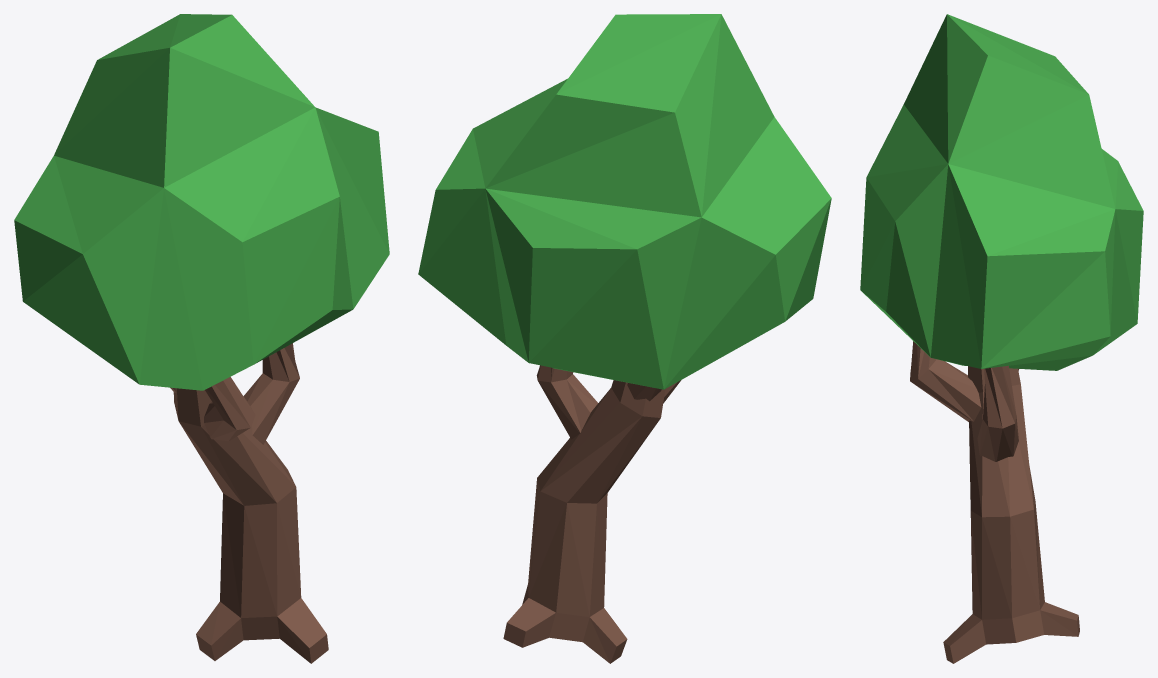
File: tree_2.glb
3 renders of one model, left to right at view 1: azimuth 30°, elevation 25°; view 2: azimuth 150°, elevation 25°; view 3: azimuth 270°, elevation 25°, orthographic. The views are drawn at different scales.
Parts seen in each view (by area): view 1: group403363102; view 2: group403363102; view 3: group403363102.
Boxes of the visible parts, box(x1,y1,x2,y2) form: group403363102: box(14, 14, 389, 663); group403363102: box(418, 14, 831, 663); group403363102: box(860, 14, 1143, 663).
Bounding box in the file's own units: 0.2705 × 0.489 × 0.2143.
